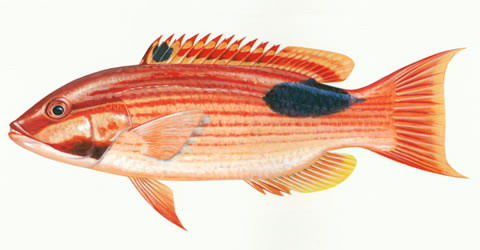fish: (7, 32, 469, 233)
